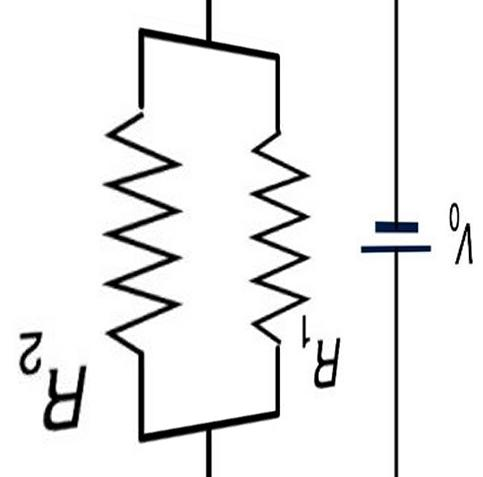Battery: (358, 163, 420, 291)
